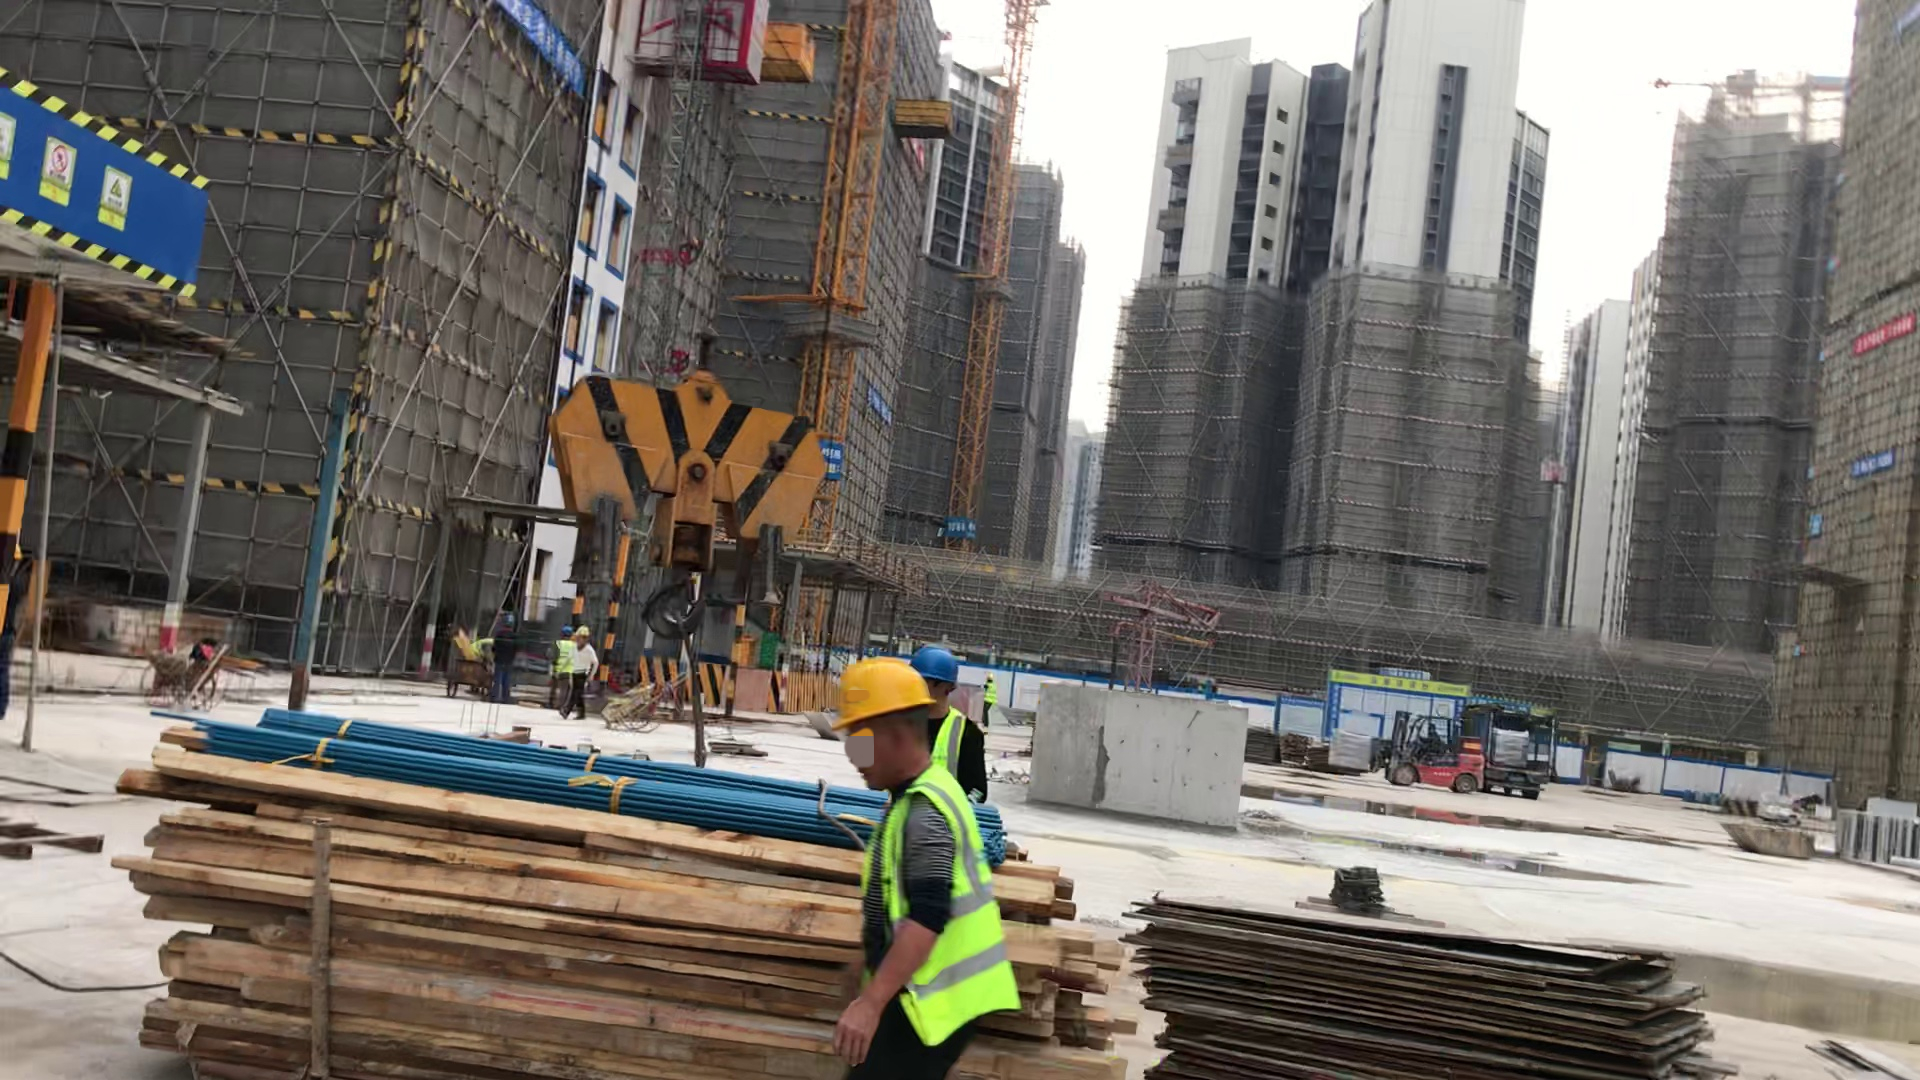helmet: (825, 662, 953, 736), (909, 644, 965, 691), (568, 619, 594, 644), (982, 667, 997, 683)
person: (811, 667, 1015, 1080), (908, 631, 995, 812), (486, 608, 518, 705), (565, 619, 593, 711), (1415, 712, 1447, 771), (975, 665, 999, 732)
vest: (877, 783, 1007, 1005), (986, 682, 993, 708)
